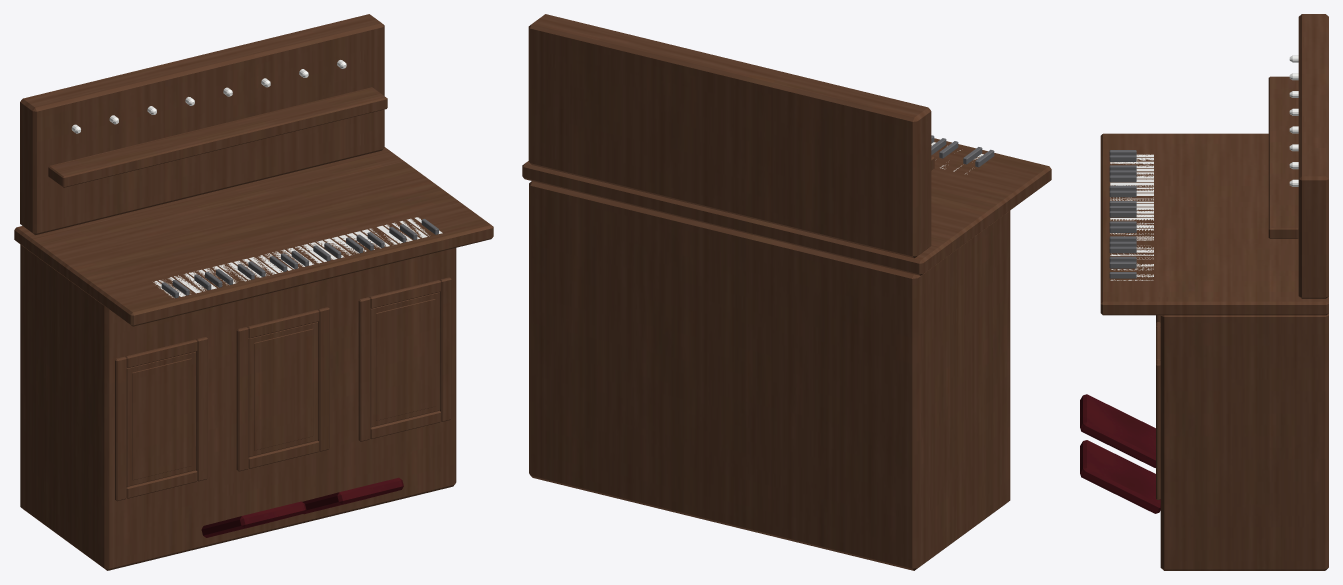
File: harmonio.glb
3 renders of one model, left to right at view 1: azimuth 30°, elevation 25°; view 2: azimuth 150°, elevation 25°; view 3: azimuth 270°, elevation 25°, orthographic. The views are drawn at different scales.
Parts seen in each view (by area): view 1: harmonio_madeira_escura, harmonio_veludo_vinho, harmonio_esmalte, harmonio_esmalte_escuro; view 2: harmonio_madeira_escura, harmonio_esmalte_escuro; view 3: harmonio_madeira_escura, harmonio_veludo_vinho, harmonio_esmalte_escuro, harmonio_esmalte, harmonio_louca.
Part boxes in pixels (x1,y1,x2,y2): harmonio_madeira_escura: (14, 14, 493, 570); harmonio_veludo_vinho: (201, 477, 403, 537); harmonio_esmalte: (153, 217, 442, 297); harmonio_esmalte_escuro: (161, 219, 438, 298); harmonio_madeira_escura: (522, 14, 1051, 570); harmonio_esmalte_escuro: (931, 135, 994, 167); harmonio_madeira_escura: (1100, 14, 1328, 570); harmonio_veludo_vinho: (1080, 394, 1160, 513); harmonio_esmalte_escuro: (1109, 150, 1136, 278); harmonio_esmalte: (1110, 154, 1153, 280); harmonio_louca: (1289, 55, 1298, 186).
Size of the model in its own units: 1.34 by 1.45 by 0.8281.
Materials: 5 (2 with a texture image).
